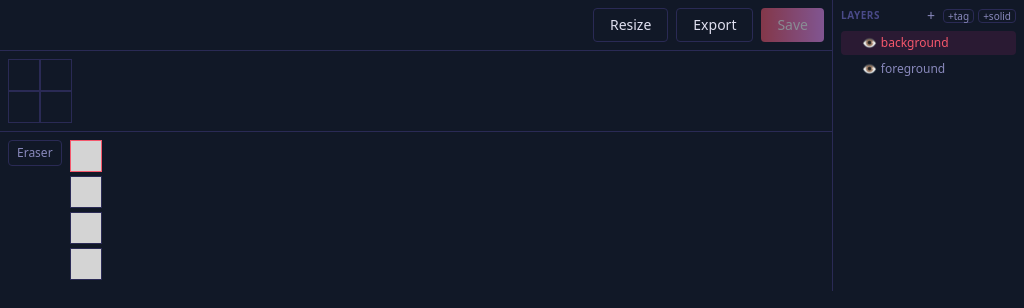
Test case: TileMapEditor — collision layers › switching to a collision layer shows the solid/not-solid picker instead of the tile palette
Expected: the text "background" is shown, [881,34,949,51]
Click the button with aria-label "Add collision layer": (997, 16) [978,8,1016,22]
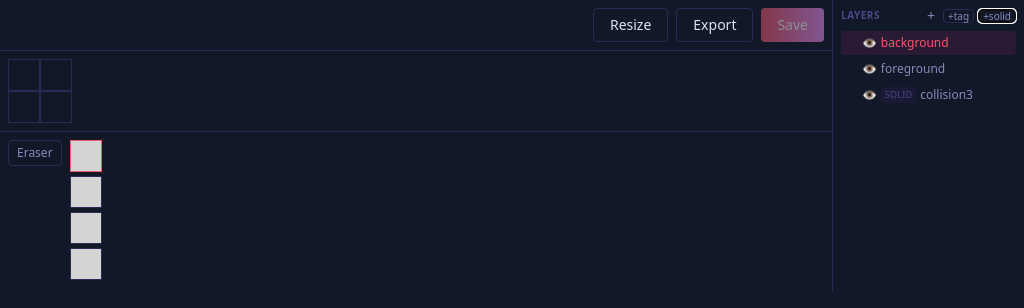
Click the text "collision3": (947, 94) [920,86,973,103]
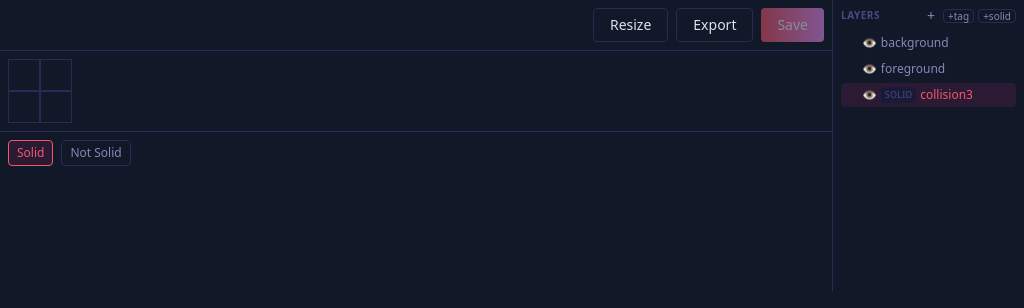
Result: the button labelled "Not Solid" is shown at [61,140,131,166]
